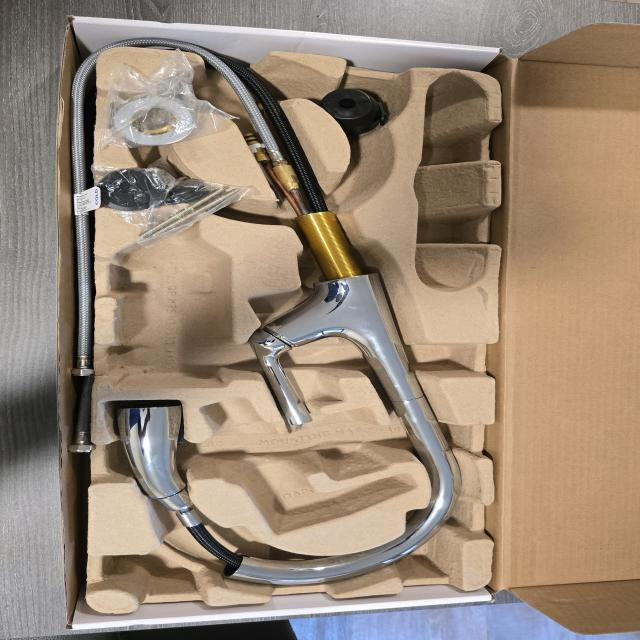1: (117, 50, 462, 584)
2m: (197, 398, 418, 534)
3m: (115, 211, 234, 389)
4m: (413, 73, 489, 292)
5: (318, 87, 390, 135)
6: (102, 47, 244, 151)
7: (83, 154, 254, 245)
